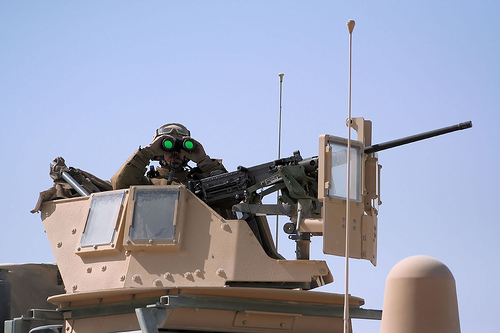rifle: (216, 124, 470, 232)
